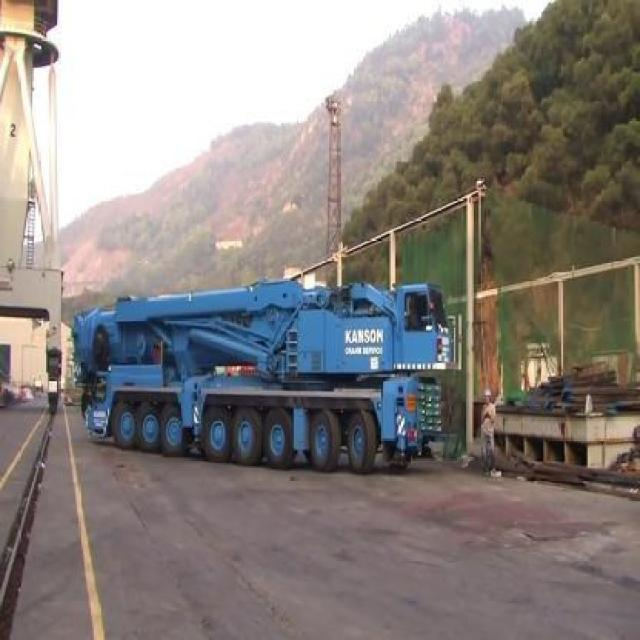Mobile Crane: (74, 282, 460, 476)
